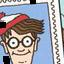waldo: (0, 12, 45, 63)
